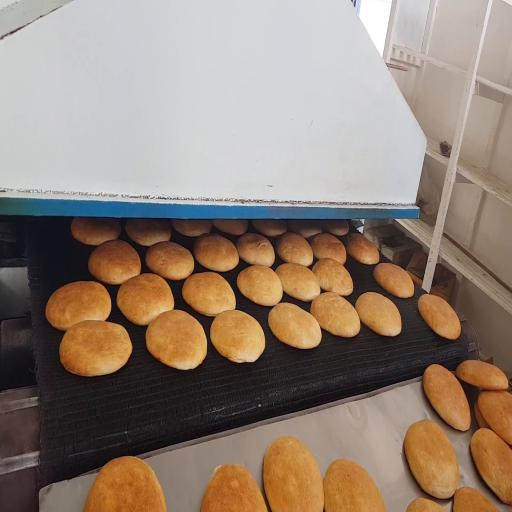bread: (263, 437, 323, 511), (84, 457, 166, 511), (404, 420, 459, 498), (60, 321, 132, 376), (146, 310, 207, 370), (324, 459, 386, 511), (423, 365, 471, 431), (46, 282, 111, 330), (471, 429, 511, 504), (201, 465, 266, 511), (117, 274, 174, 325), (211, 311, 265, 362), (268, 303, 321, 348), (182, 272, 235, 316), (88, 240, 141, 284), (311, 293, 360, 337), (355, 292, 401, 336), (418, 294, 461, 339), (477, 390, 512, 445), (237, 265, 282, 306), (146, 242, 194, 280), (194, 234, 238, 272), (276, 264, 320, 301), (456, 360, 508, 390), (312, 258, 353, 296), (71, 217, 121, 246), (374, 263, 414, 298), (276, 232, 313, 266), (236, 233, 274, 266), (125, 219, 171, 246), (310, 233, 346, 264), (453, 487, 498, 511), (347, 234, 379, 265), (172, 220, 211, 237), (213, 219, 248, 236), (252, 220, 287, 237), (288, 220, 321, 238), (406, 498, 445, 511), (474, 400, 490, 428), (322, 220, 349, 236)
